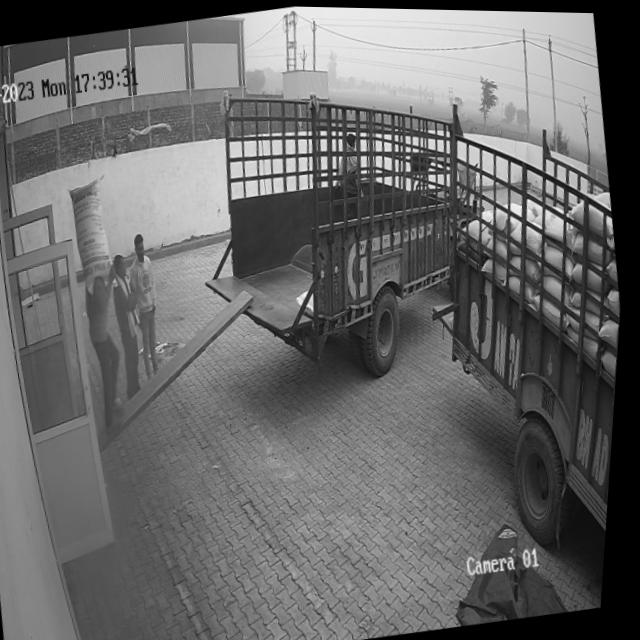sack: (65, 175, 123, 298)
